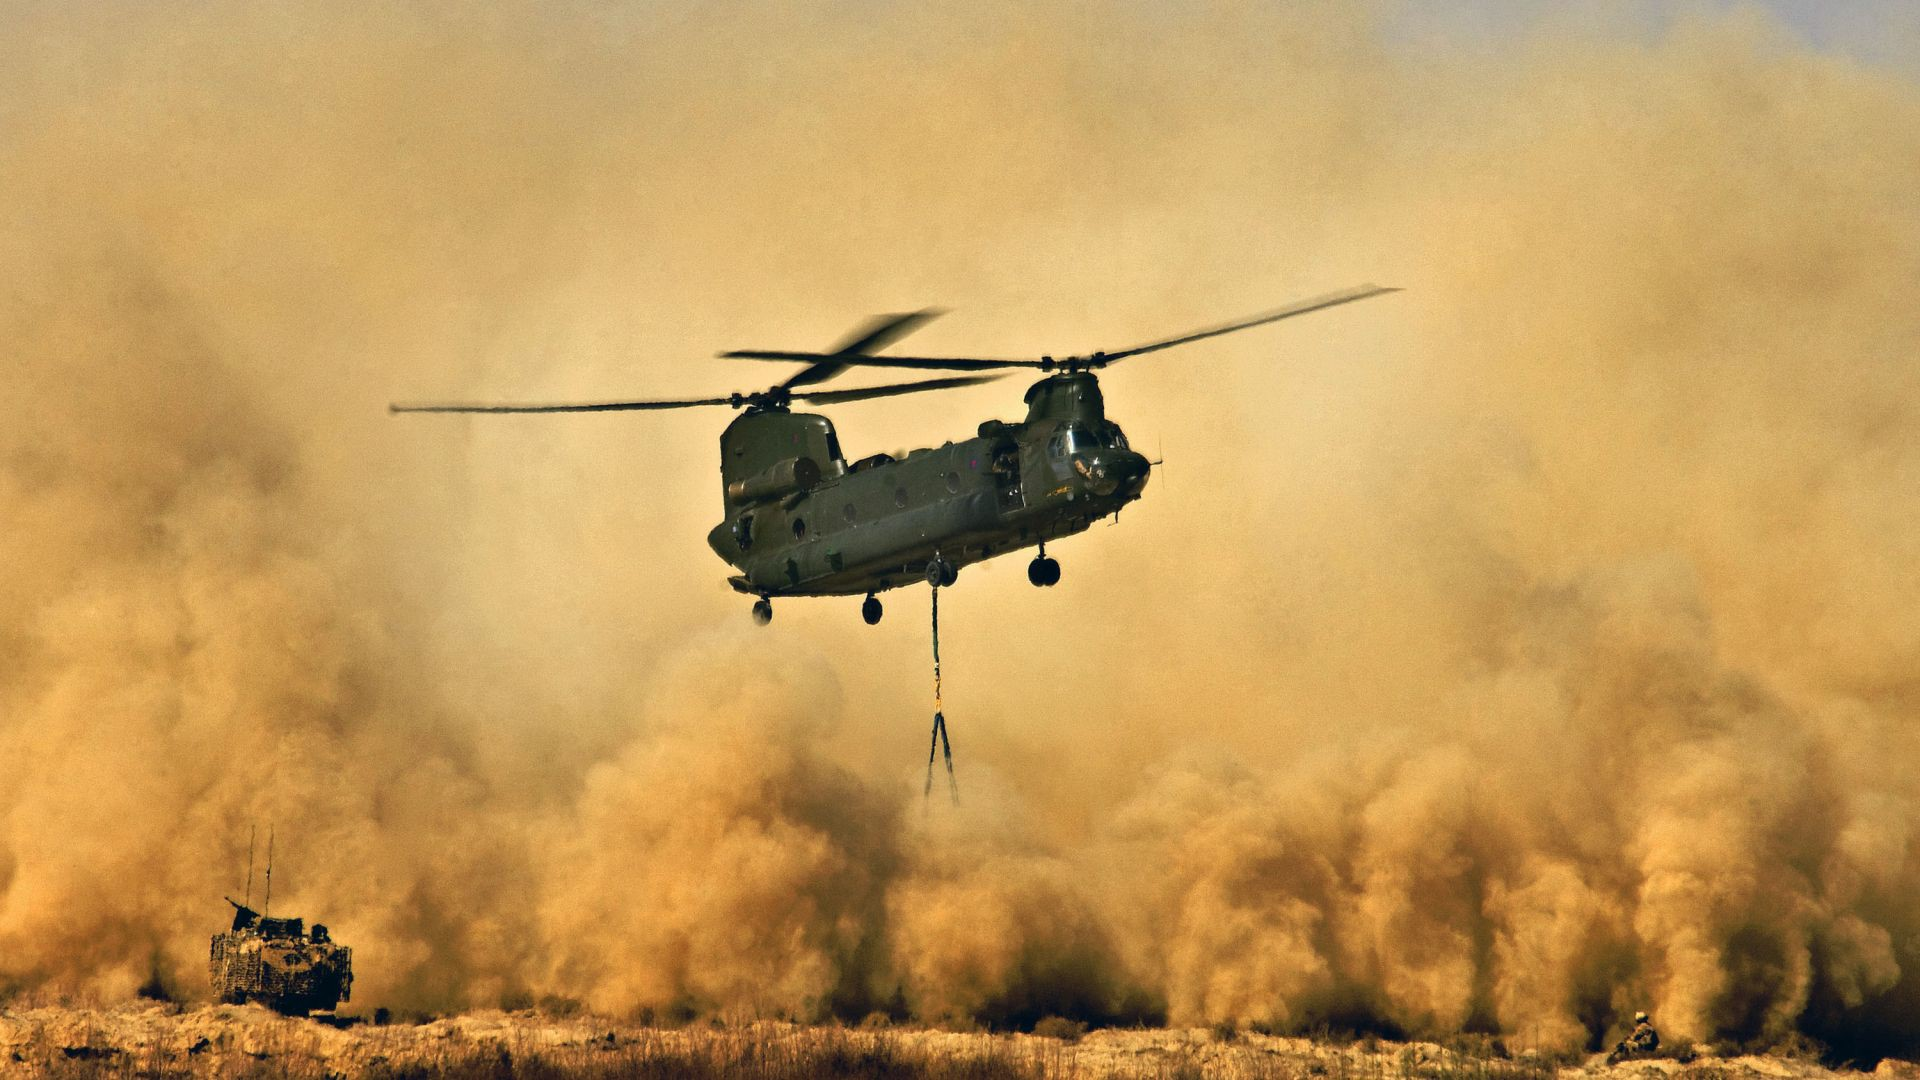chinook: (502, 295, 1414, 645)
